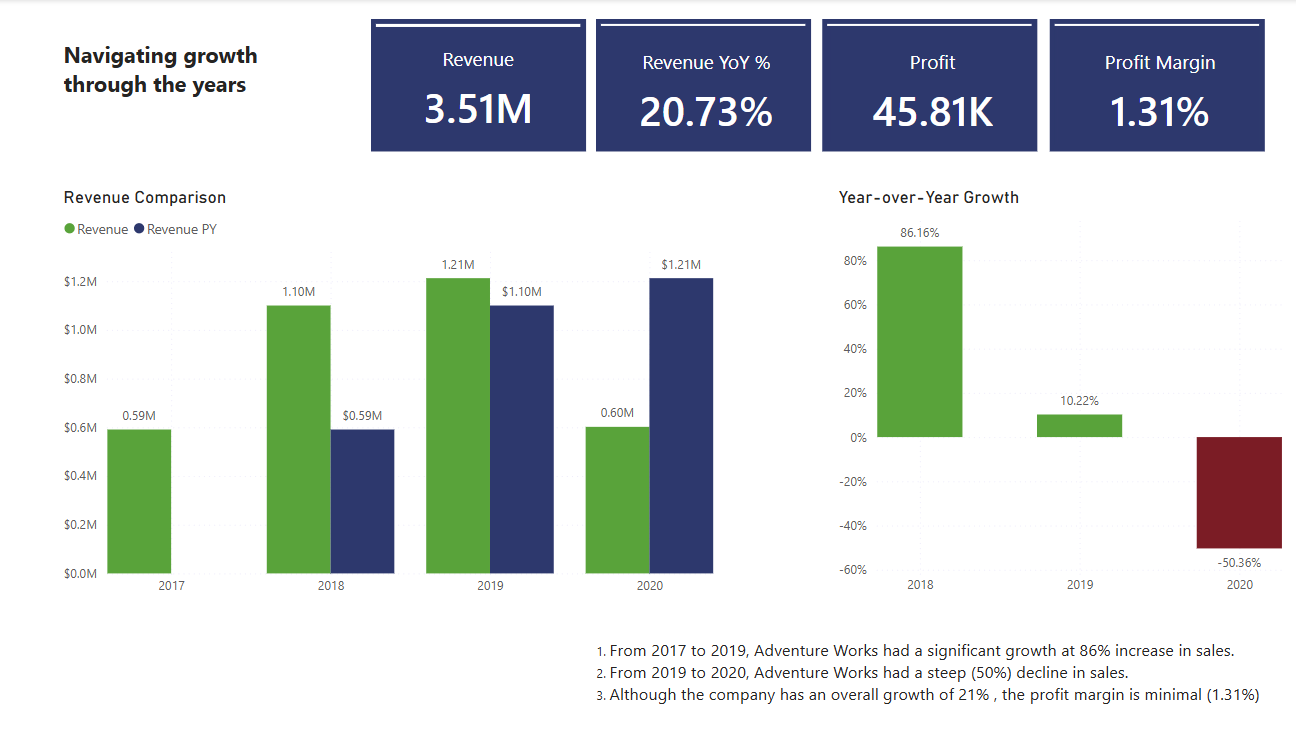

The dashboard page shown, as its layout file describes it:
{"tool":"powerbi","page":{"name":"Page 2","canvas":[1280,720],"ordinal":0},"visuals":[{"type":"clusteredColumnChart","title":"Revenue Comparison","fields":{"Category":["Sales.OrderDate.Variation.Date Hierarchy.Year"],"Y":["Key Measures.Revenue","Key Measures.Revenue PY"]},"box":[66,183.4,645.7,408.4],"z":0},{"type":"clusteredColumnChart","title":"Year-over-Year Growth","fields":{"Category":["Sales.OrderDate.Variation.Date Hierarchy.Year"],"Y":["Key Measures.Revenue YoY %"]},"box":[824.2,183.4,443.9,408.4],"z":1000},{"type":"cardVisual","fields":{"Data":["Key Measures.Revenue"]},"box":[371.7,19.6,210.3,129.6],"z":2000},{"type":"cardVisual","fields":{"Data":["Key Measures.Revenue YoY %"]},"box":[591.9,19.6,210.3,129.6],"z":3000},{"type":"cardVisual","fields":{"Data":["Key Measures.Profit"]},"box":[813.2,19.6,210.3,129.6],"z":4000},{"type":"cardVisual","fields":{"Data":["Key Measures.Profit Margin"]},"box":[1035.7,19.6,210.3,129.6],"z":5000},{"type":"textbox","box":[66,34.2,273.9,114.9],"z":5001},{"type":"textbox","box":[582.1,620,688.5,80.7],"z":5002}]}

Visuals, with their boxes in screenshot pixels (x1, y1, x2, y2), scaled from the page's 1280x720 canvas onto the 1296x729 screenshot:
"Revenue Comparison" clusteredColumnChart: (67,186,721,599)
"Year-over-Year Growth" clusteredColumnChart: (835,186,1284,599)
cardVisual - Key Measures.Revenue: (376,20,589,151)
cardVisual - Key Measures.Revenue YoY %: (599,20,812,151)
cardVisual - Key Measures.Profit: (823,20,1036,151)
cardVisual - Key Measures.Profit Margin: (1049,20,1262,151)
textbox: (67,35,344,151)
textbox: (589,628,1286,709)
